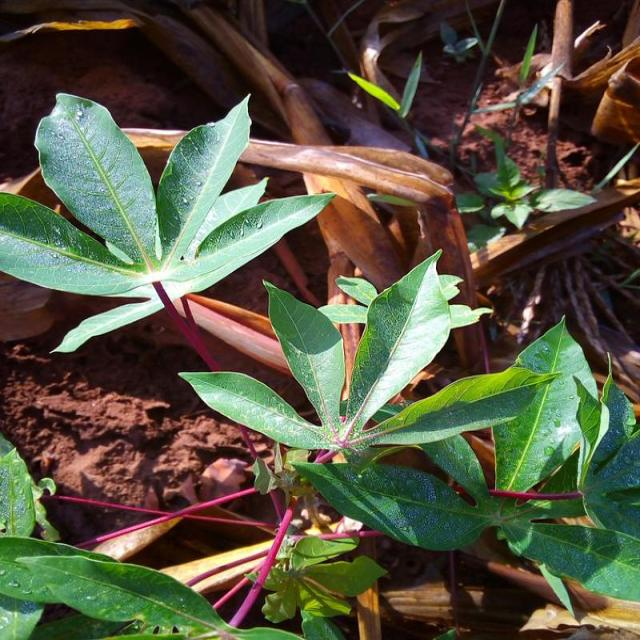cassava leaf: (0, 89, 337, 353), (32, 91, 162, 270), (491, 313, 604, 497), (344, 246, 452, 433)
